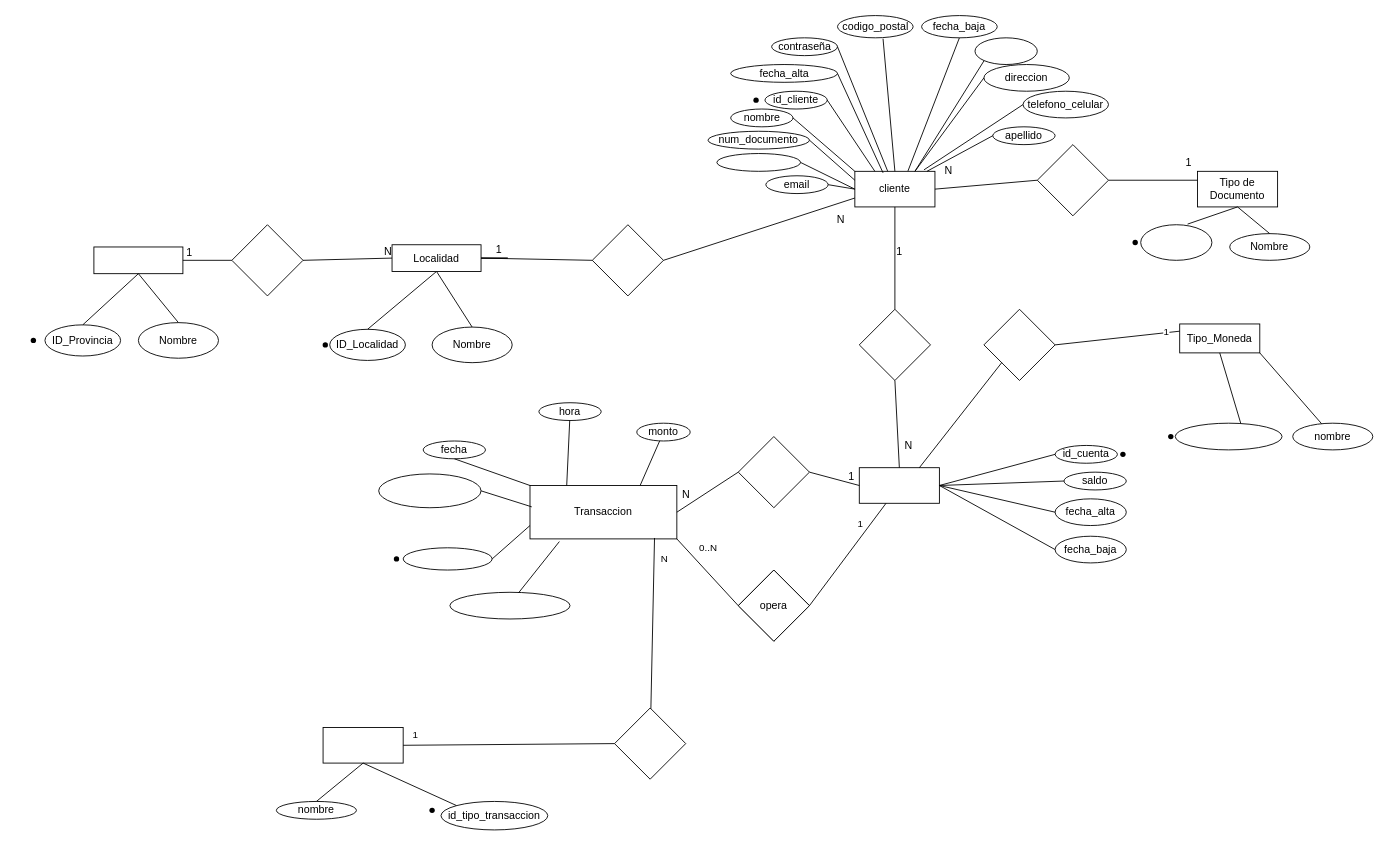
Some shapes in this 1388 by 846 pixel diagram are drawn without their labels. The centre of each missing label's shape, as x and y in pixels:
"adquiere" belongs at (x=894, y=344).
"bloqueado" belongs at (x=758, y=162).
"contiene" belongs at (x=267, y=260).
"cotizacion_moneda" belongs at (x=429, y=490).
"cuenta_usuario" belongs at (x=898, y=485).
"direccion_billetera" belongs at (x=509, y=605).
"encuentra" belongs at (x=627, y=260).
"id_tipo_moneda" belongs at (x=1228, y=436).
"ID_TipoDoc" belongs at (x=1176, y=242).
"id_transaccion" belongs at (x=447, y=558).
"nrodoc" belongs at (x=1005, y=51).
"origina" belongs at (x=773, y=472).
"posee" belongs at (x=1072, y=180).
"Provincia" belongs at (x=138, y=260).
"Realiza" belongs at (x=650, y=743).
"tiene" belongs at (x=1019, y=344).
"tipo_transaccion" belongs at (x=362, y=745).
